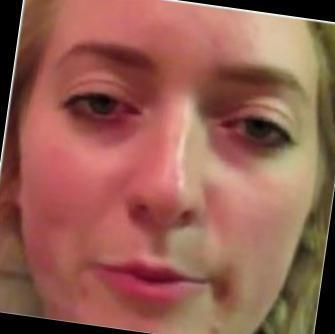Drunk: (46, 7, 289, 334)
